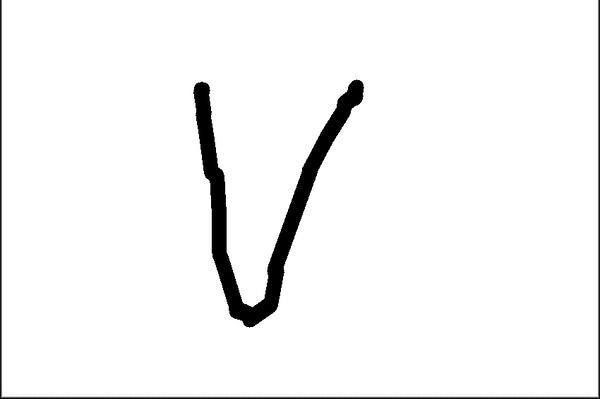V: (178, 71, 366, 329)
